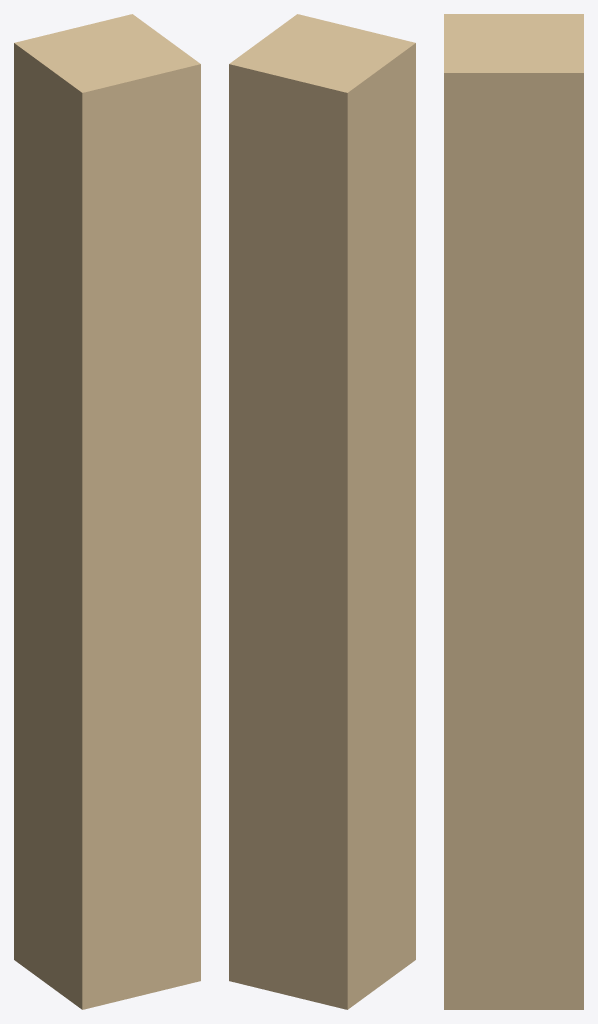
File: OU_D_TheatreSign_01_D.fbx
3 views of the same model, side by side, from view 1: azimuth 30°, elevation 25°; view 2: azimuth 150°, elevation 25°; view 3: azimuth 270°, elevation 25° (orthographic). The views are drawn at different scales.
Visible parts, largest first — view 1: OU_D_TheatreSign_01_D; view 2: OU_D_TheatreSign_01_D; view 3: OU_D_TheatreSign_01_D.
Part boxes in pixels (x1,y1,x2,y2): OU_D_TheatreSign_01_D: [14, 14, 200, 1009]; OU_D_TheatreSign_01_D: [229, 14, 415, 1009]; OU_D_TheatreSign_01_D: [444, 14, 583, 1009].
Size of the model in its own units: 97.38 by 720 by 97.38.
